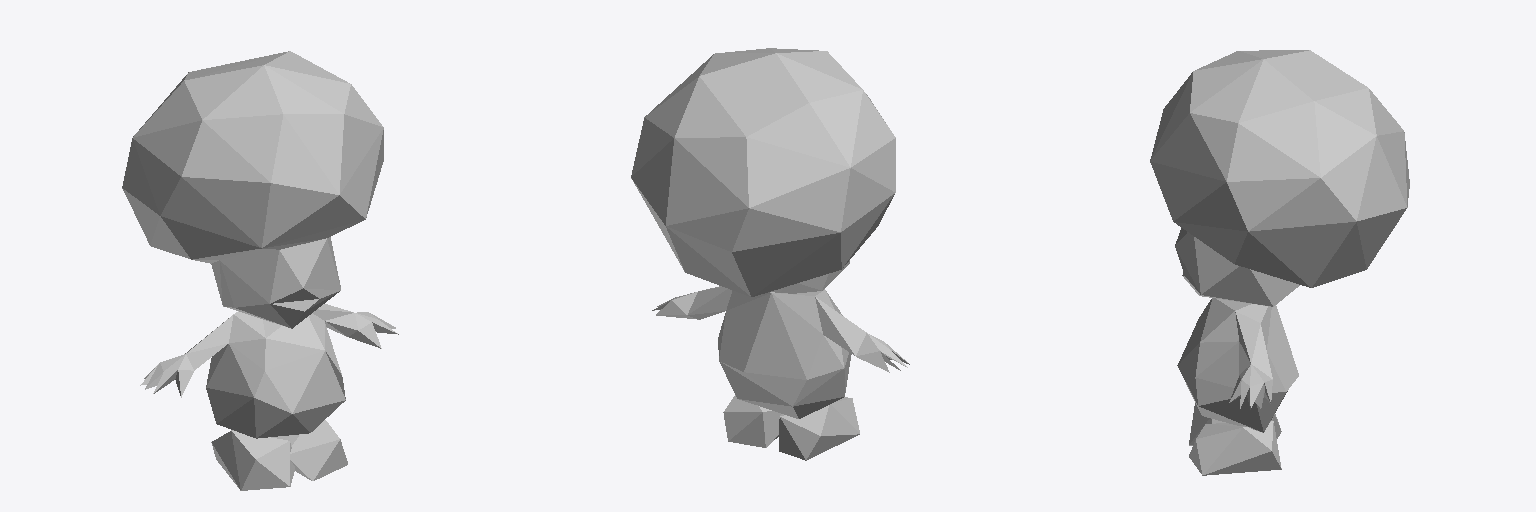
File: Toad_LoD4.obj
The picture shows the model from 3 angles: view 1: azimuth 30°, elevation 25°; view 2: azimuth 150°, elevation 25°; view 3: azimuth 270°, elevation 25°; orthographic projection.
Visible parts, largest first — view 1: Toad; view 2: Toad; view 3: Toad.
Boxes of the visible parts, x1,y1,x2,y2 form: Toad: [122, 51, 398, 490]; Toad: [631, 48, 909, 460]; Toad: [1150, 50, 1409, 475].
Size of the model in its own units: 0.9171 by 1.37 by 0.8169.